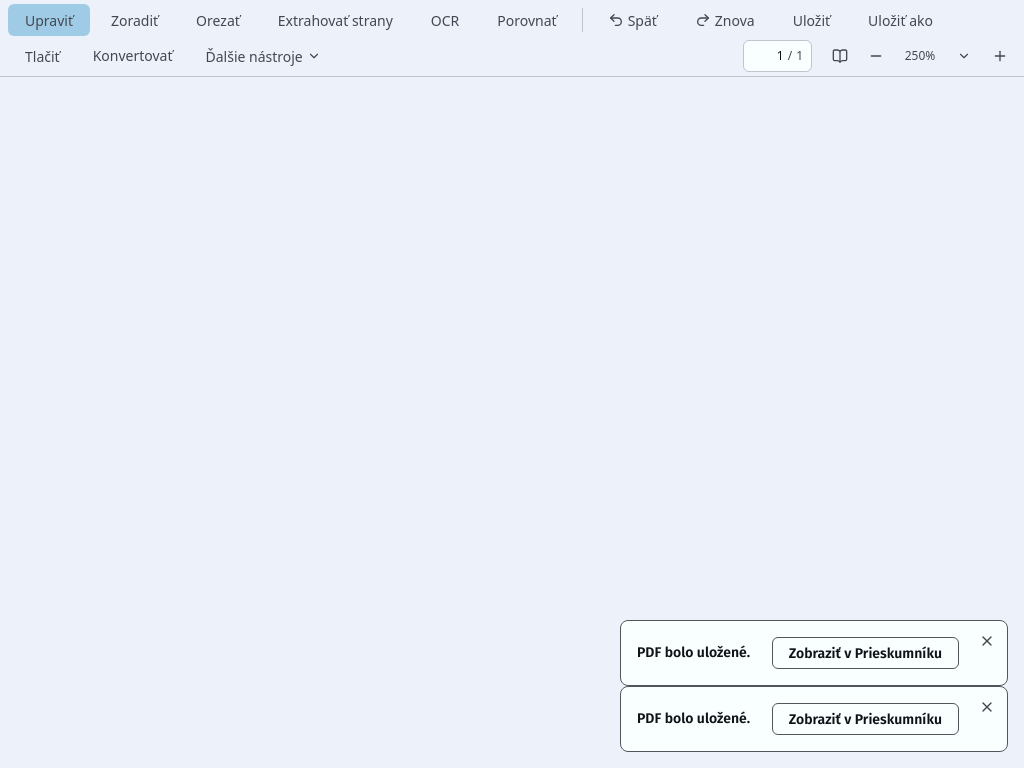
Test case: WorkspaceTopBar › clicking the zoom percentage resets it to 100%
What coordinates should you click on to do the following:
click the button "250%"
I would click on:
 (920, 56)
Its box is [896,48,944,64].
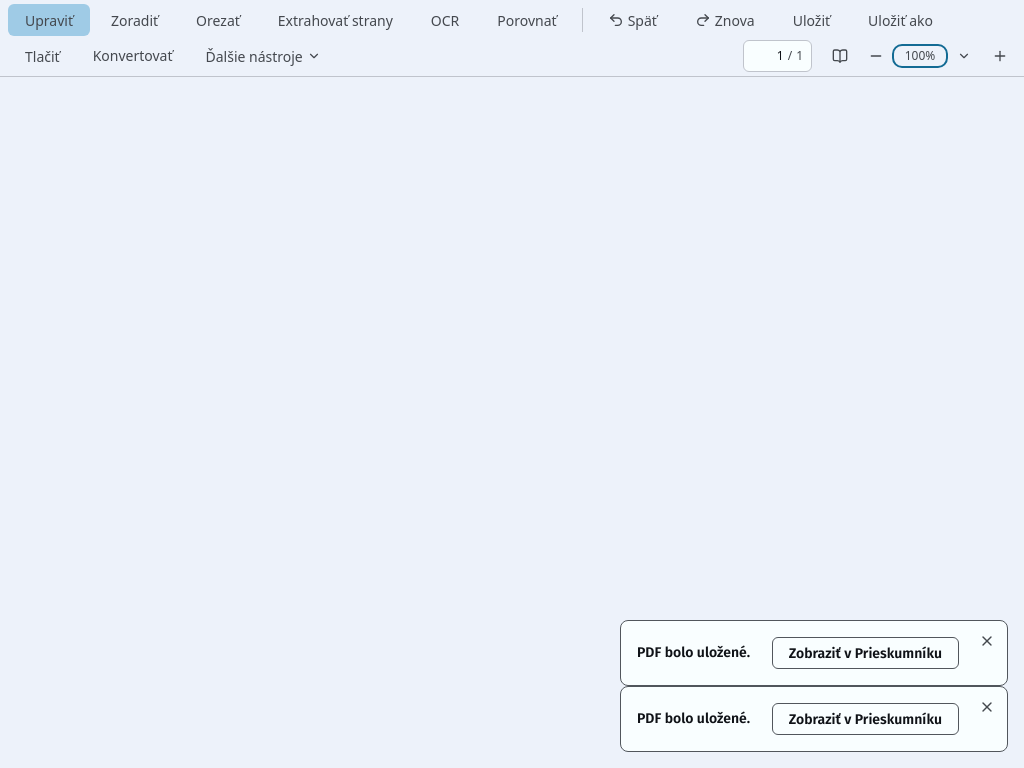
Check: the button "100%" is shown, box [896,48,944,64]
